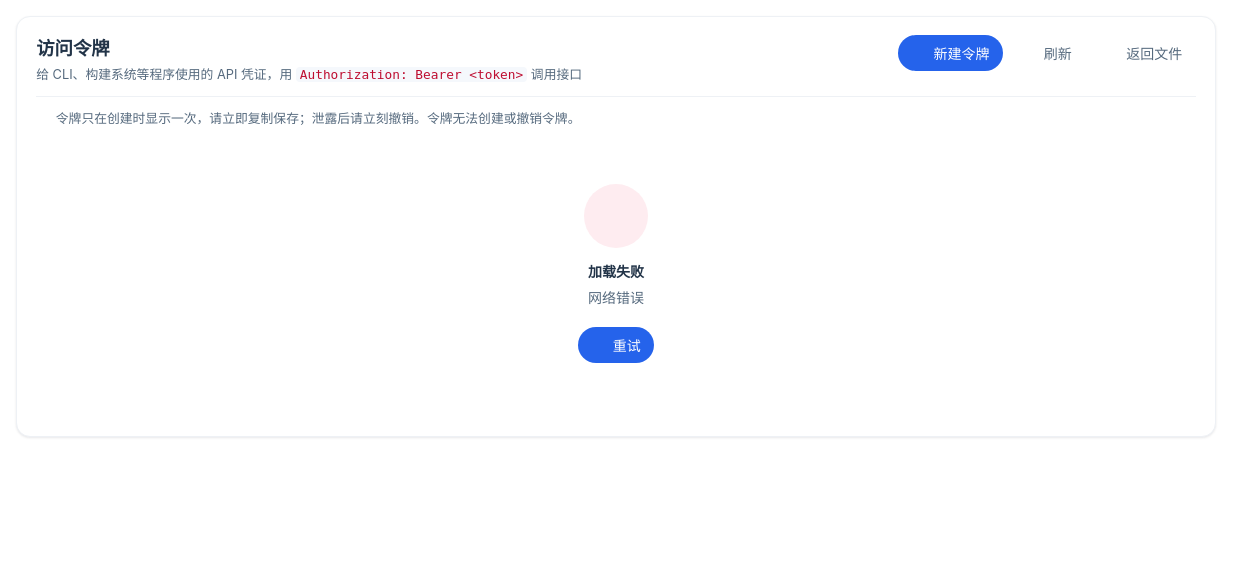
AccessTokens.vue › surfaces a load failure with retry
Check: the text "加载失败" is shown, box [588,261,644,282]
What coordinates should you click on to do the following:
click the button "重试"
I would click on:
 (616, 345)
Its box is [578,327,654,363].
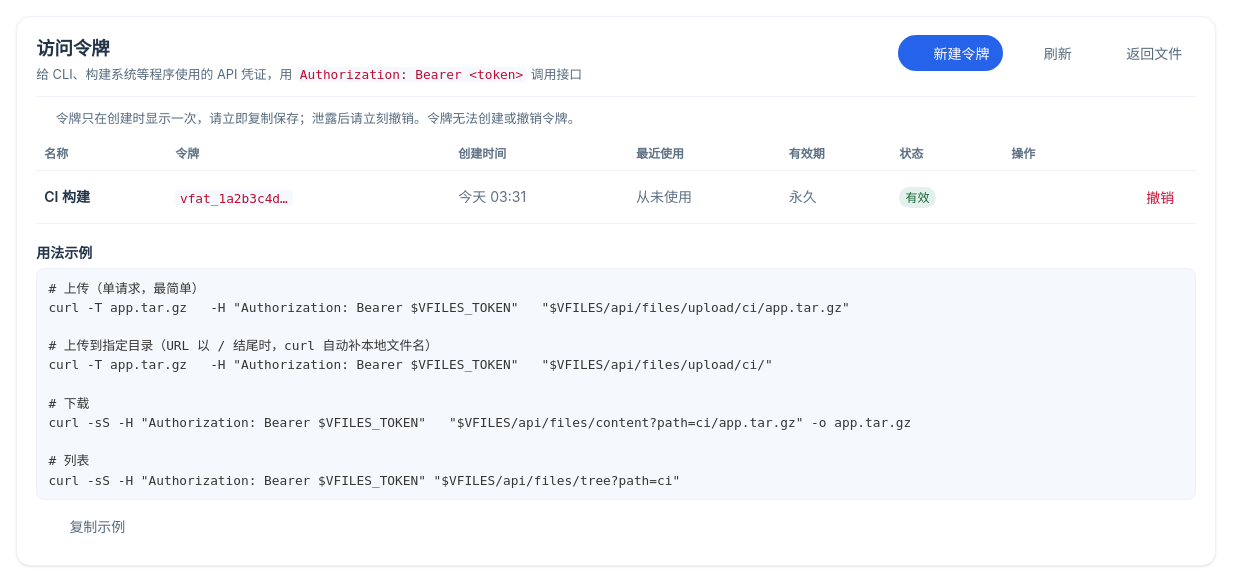
Check: the text "CI 构建" is shown, box [36,170,167,223]
